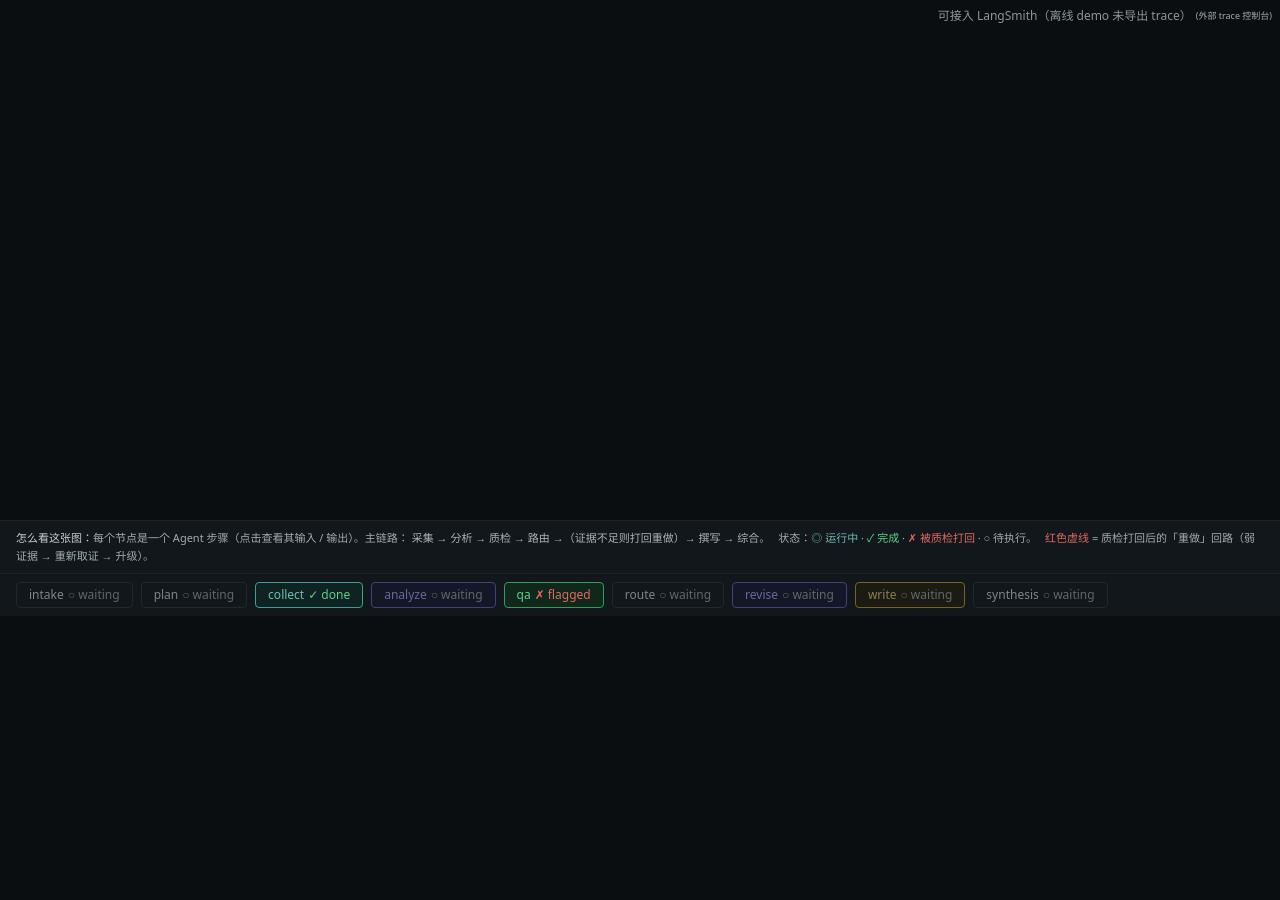
Test: ExecutionTrace component › clicking same node again closes the detail panel
Click the button with test id "node-btn-collect": (309, 595) [255, 582, 363, 608]
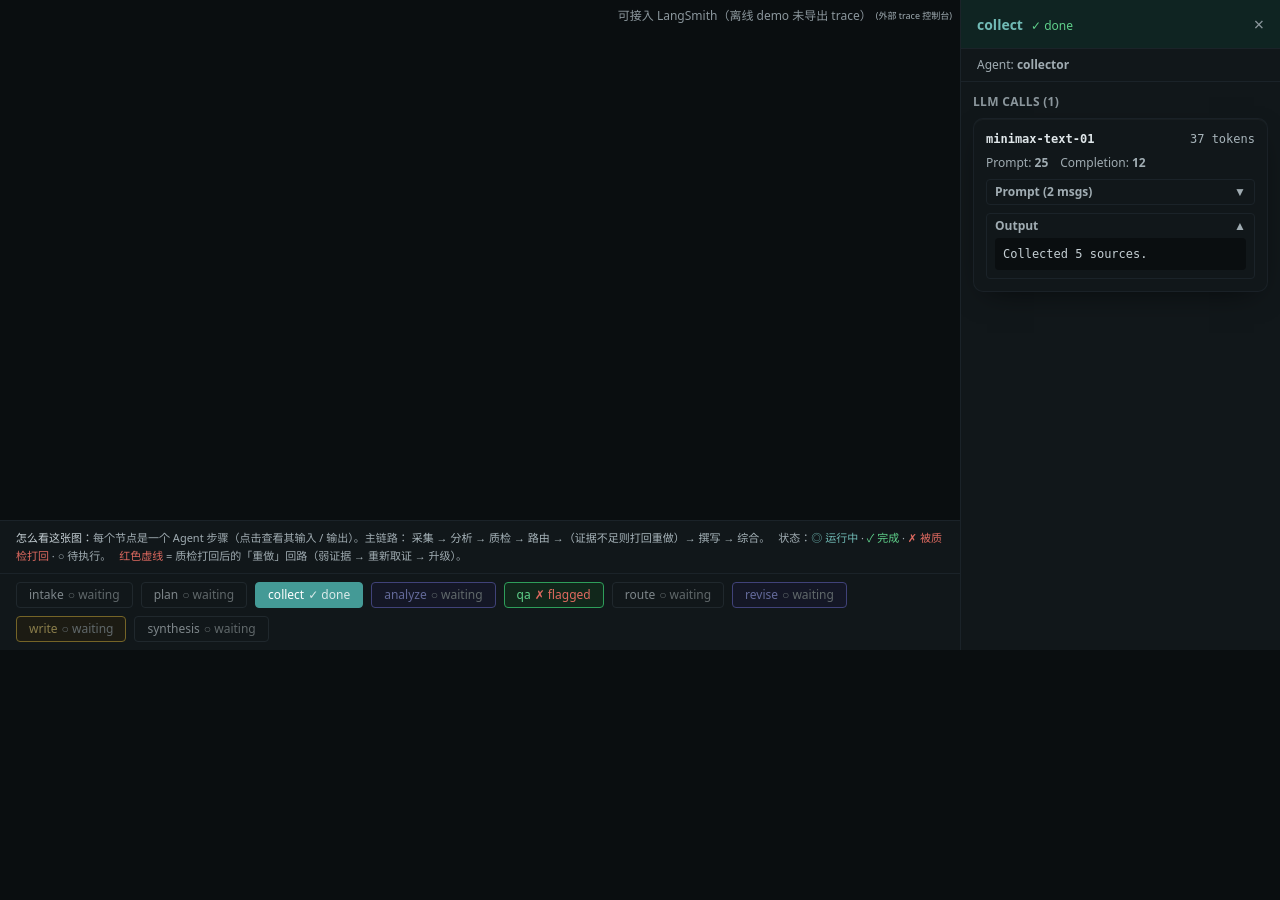
Expected: the element with test id "node-detail-panel" is shown, [960, 0, 1279, 650]
# Click again to close
Click the button with test id "node-btn-collect": (309, 595) [255, 582, 363, 608]
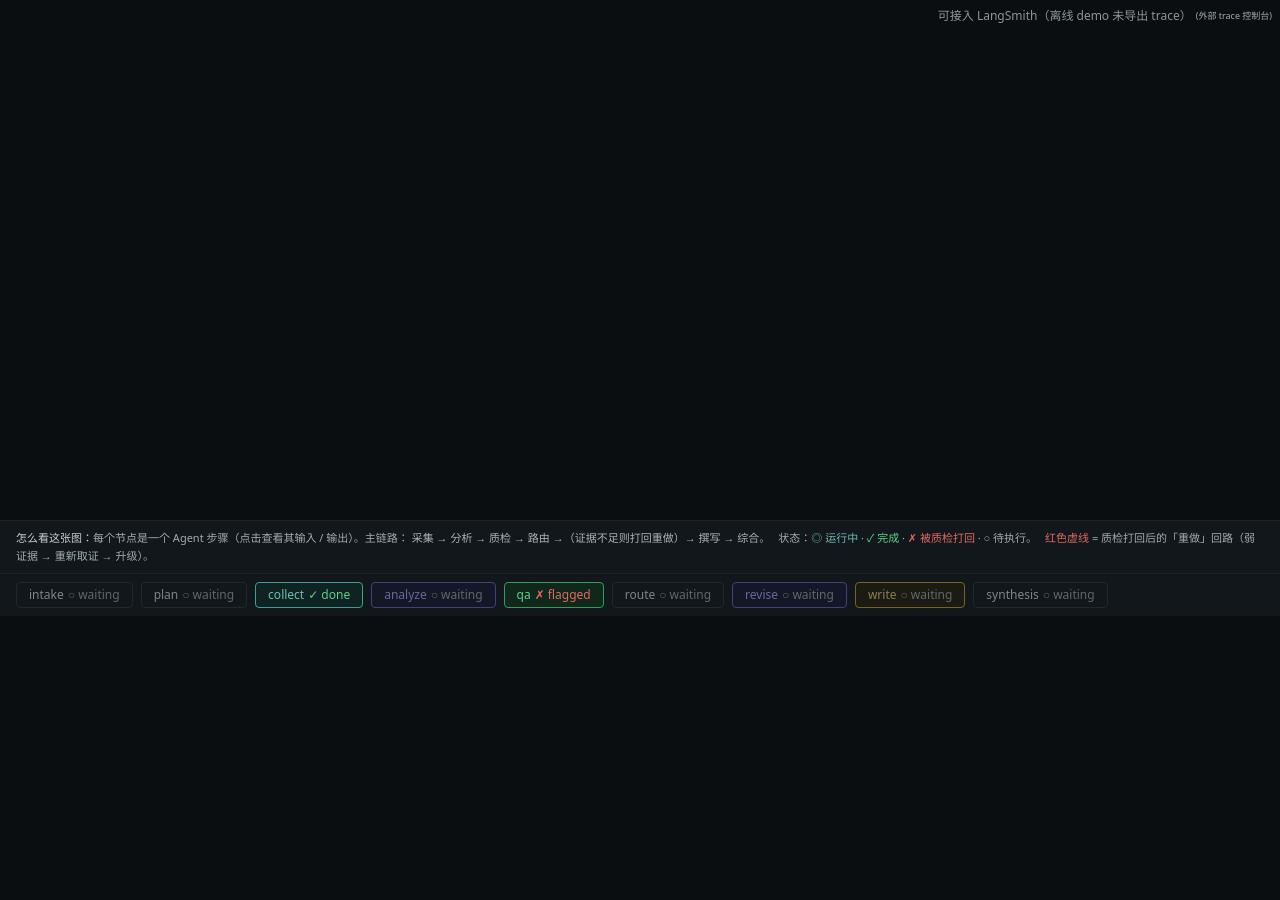
Expected: the element with test id "node-detail-panel" is gone
